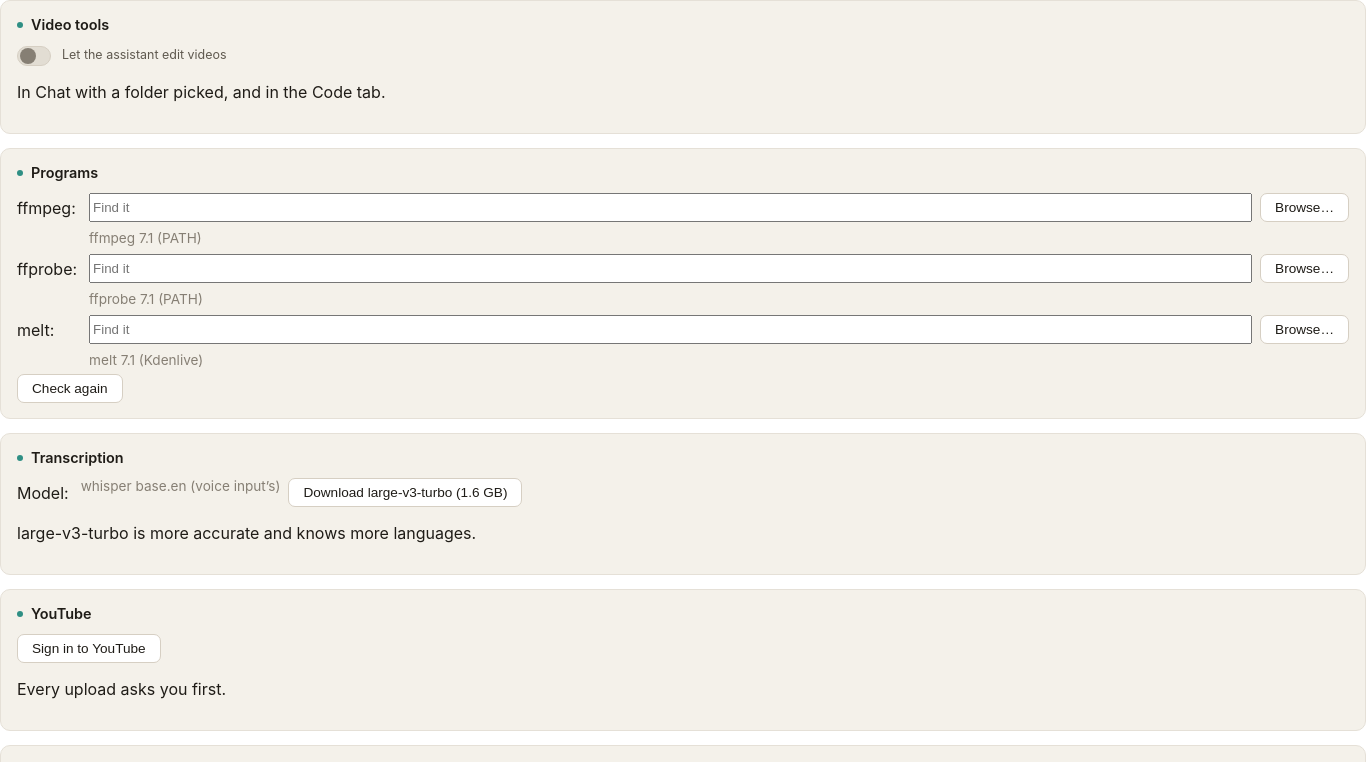
Test: VideoEditingSection › downloads the transcription model
Click the button "Download large-v3-turbo (1.6 GB)" at (405, 492), box x1=288 y1=478 x2=522 y2=507
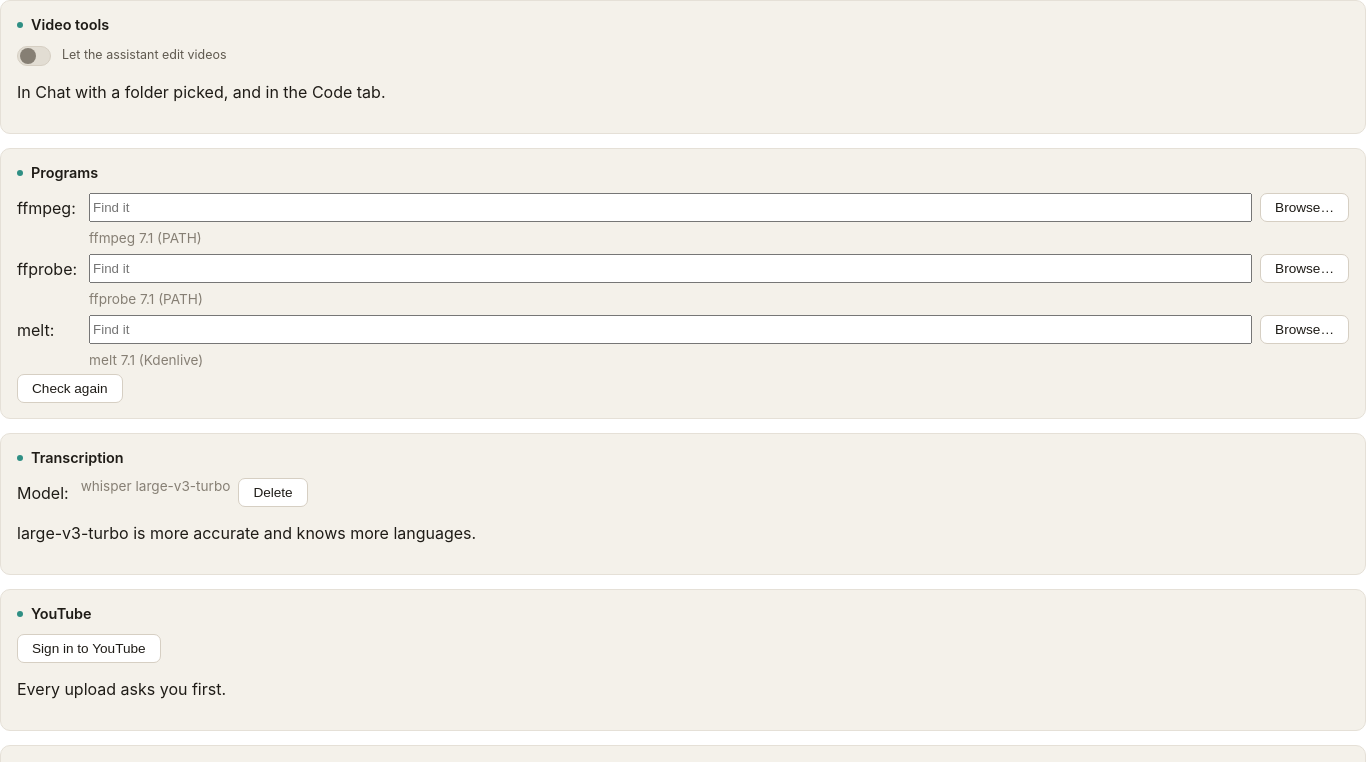
Expected: the text "whisper large-v3-turbo" is shown, x1=81 y1=478 x2=230 y2=494
